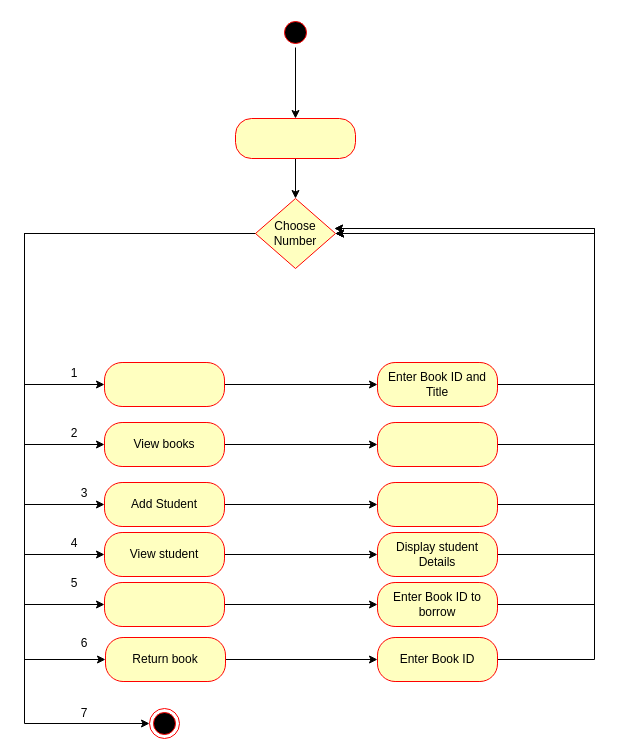
Image size: 620x756. Some labels were removed from this diagram. The box of each missing label's shape, as (x1, y1, x2, y2) in pixels:
Add book: (104, 362, 224, 406)
Borrow book: (104, 582, 224, 626)
Display books Details: (376, 422, 498, 466)
Display Main Menu: (234, 118, 356, 158)
Enter Student ID and Name: (376, 482, 498, 526)
